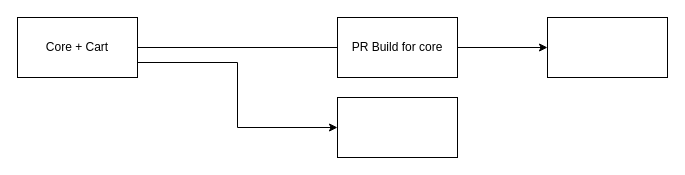
Some shapes in this 685 by 175 pixel diagram are drawn without their labels. The centre of each missing label's shape, as x and y in pixels:
"PR build for cart" belongs at [397,127].
"Resource Build for Cart" belongs at [607,47].
